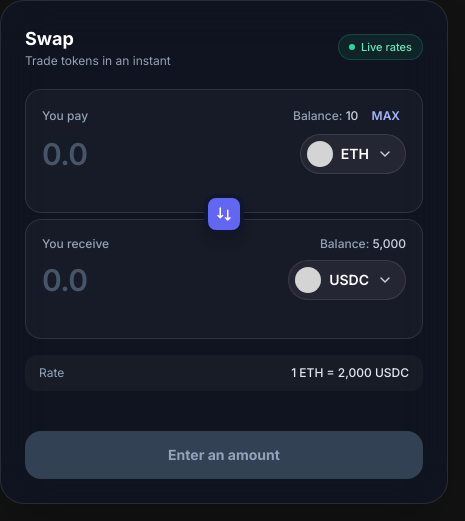
Scenario: SwapForm › shows an inline error and disables submit for invalid amount 0
Type "0" into the field named "You pay amount". click: (165, 154)
box: x1=42 y1=136 x2=288 y2=172
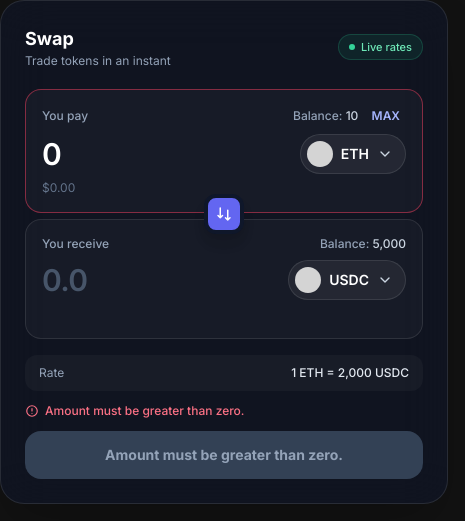
Expected: the button "Amount must be greater than zero." is disabled, x1=25 y1=431 x2=423 y2=479
Expected: the text "Amount must be greater than zero." is shown, x1=25 y1=403 x2=244 y2=418
